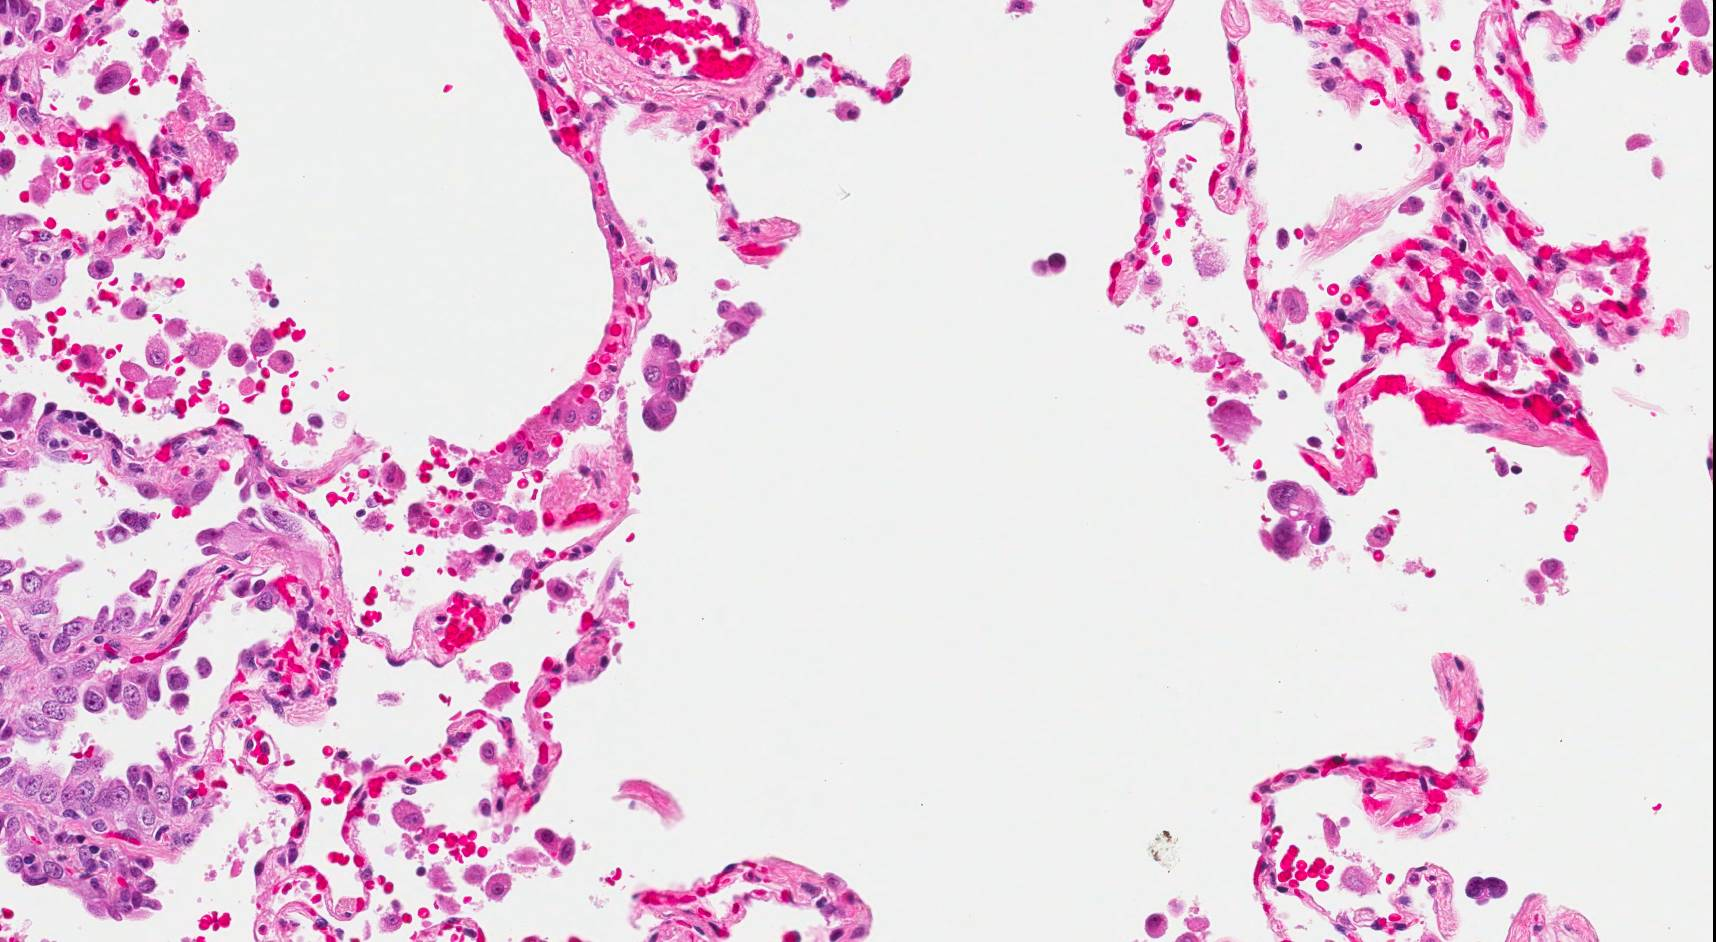stas: (1263, 474, 1333, 565), (641, 333, 695, 433), (716, 298, 769, 338), (1465, 869, 1513, 907)
